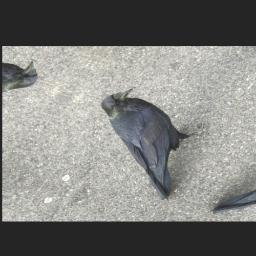Crow: (47, 82, 238, 202)
